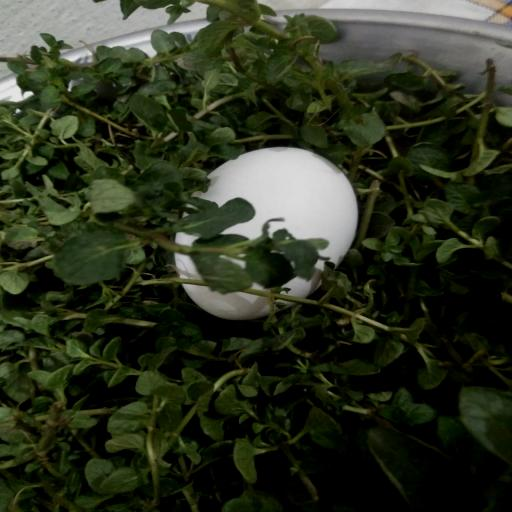telur: (165, 139, 380, 327)
